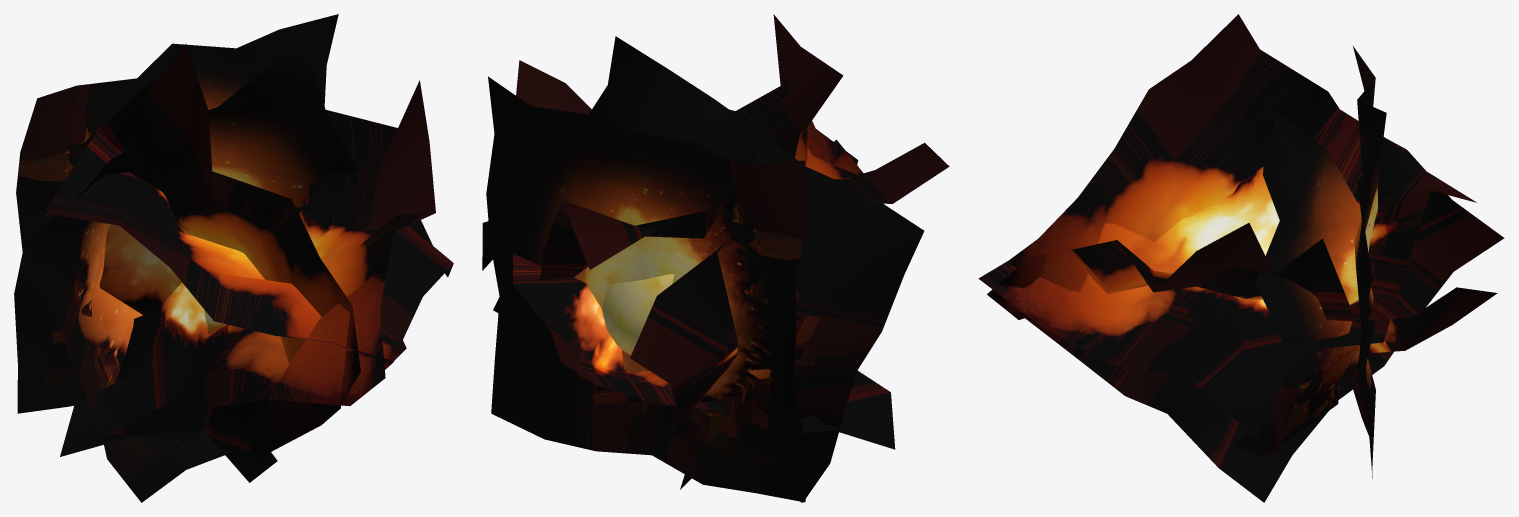
Rendered from MuzzleFireEffectEdit.fbx.
The picture shows the model from 3 angles, left to right: view 1: azimuth 30°, elevation 25°; view 2: azimuth 150°, elevation 25°; view 3: azimuth 270°, elevation 25°; orthographic projection. The views are drawn at different scales.
Visible parts, largest first — view 1: Muzzleflash.004, Muzzleflash; view 2: Muzzleflash, Muzzleflash.004; view 3: Muzzleflash.004, Muzzleflash.
Boxes of the visible parts, left/top/right/bottom form: Muzzleflash.004: left=47, top=44, right=453, bottom=482; Muzzleflash: left=14, top=14, right=357, bottom=502; Muzzleflash: left=486, top=36, right=924, bottom=502; Muzzleflash.004: left=482, top=14, right=949, bottom=489; Muzzleflash.004: left=978, top=14, right=1504, bottom=502; Muzzleflash: left=1235, top=46, right=1386, bottom=478.
Size of the model in its own units: 71.28 by 75.03 by 79.07.
Materials: 2 (2 with a texture image).
